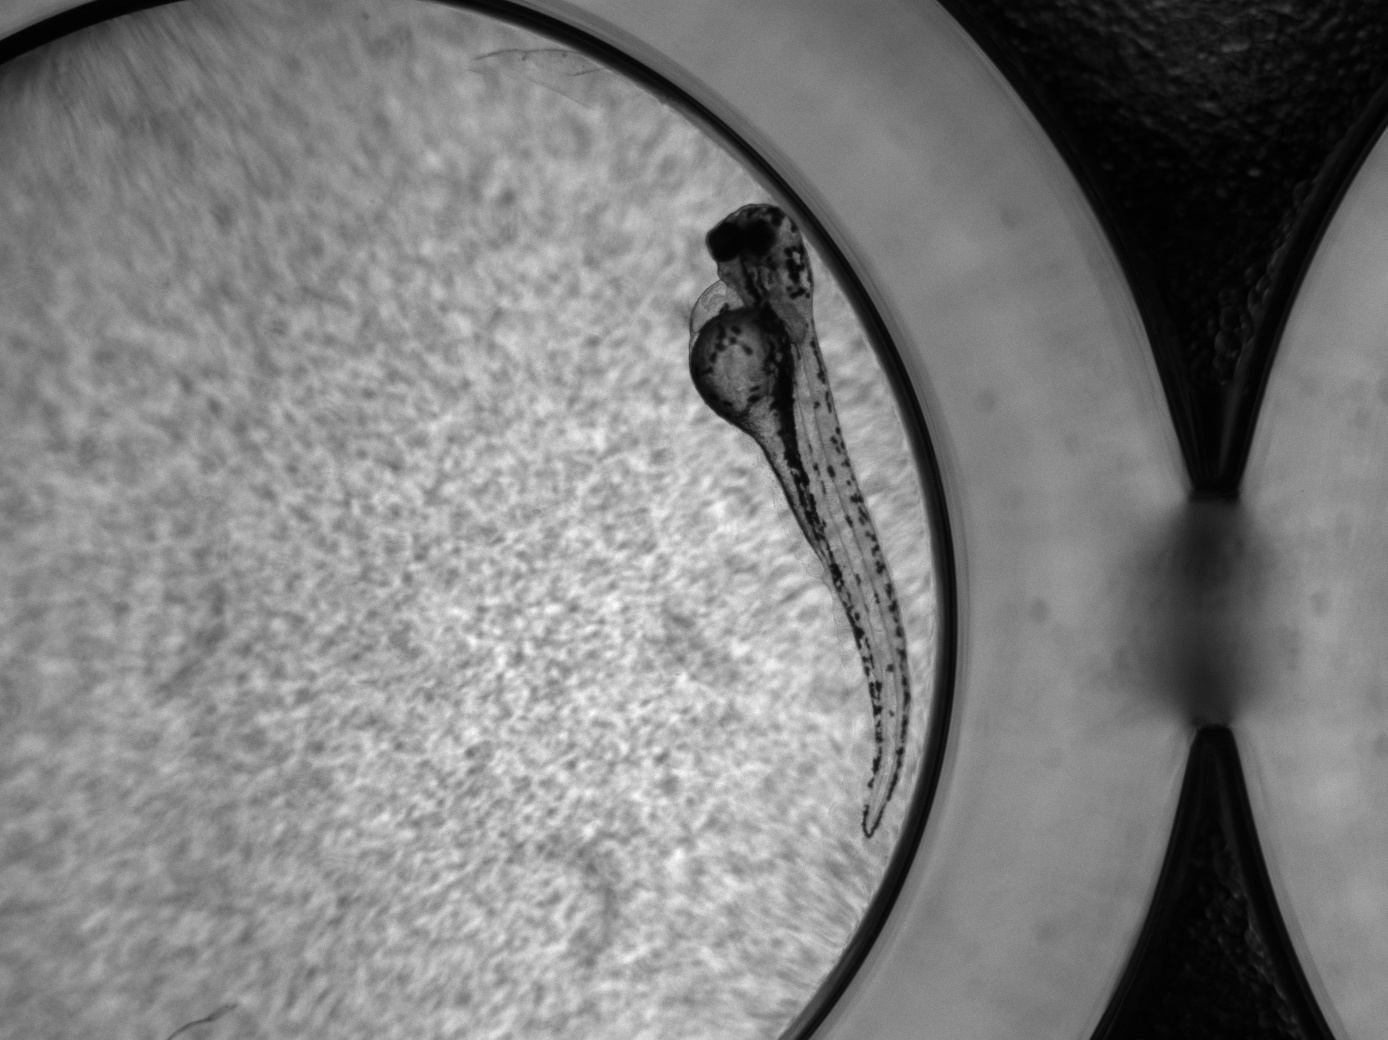embryo: (687, 202, 915, 839)
eye: (705, 222, 742, 261), (742, 220, 775, 258)
yolksac: (690, 307, 798, 430)
